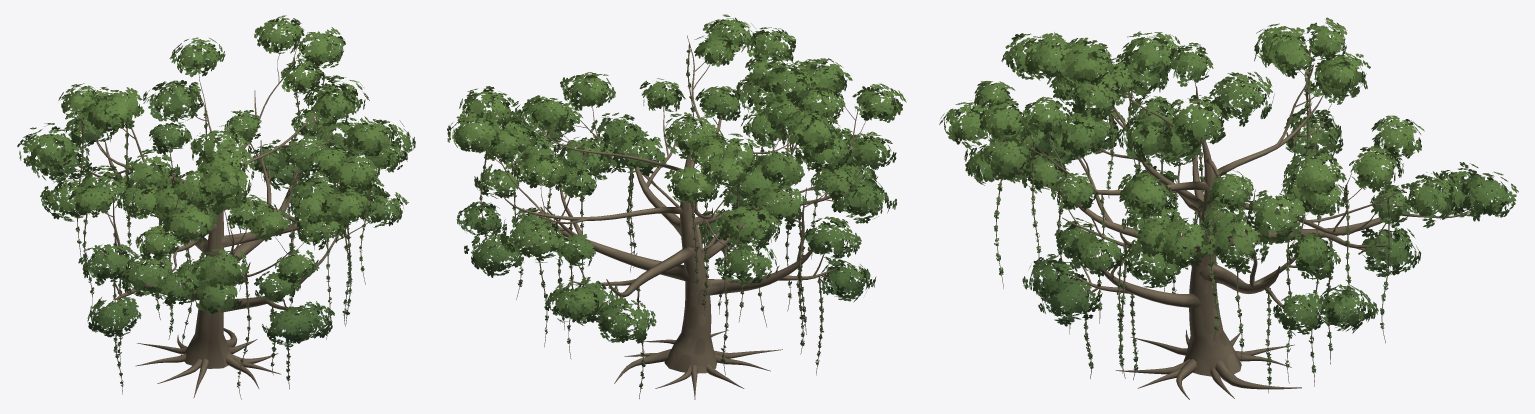
Rendered from tree.gltf.
3 views of the same model, side by side, from view 1: azimuth 30°, elevation 25°; view 2: azimuth 150°, elevation 25°; view 3: azimuth 270°, elevation 25° (orthographic). The views are drawn at different scales.
Visible parts, largest first — view 1: Tree_LOD0; view 2: Tree_LOD0; view 3: Tree_LOD0.
Boxes of the visible parts, x1,y1,x2,y2 form: Tree_LOD0: [17, 15, 415, 399]; Tree_LOD0: [447, 14, 906, 399]; Tree_LOD0: [939, 17, 1518, 399].
Size of the model in its own units: 28.66 by 21.15 by 36.7.
Materials: 2 (2 with a texture image).
